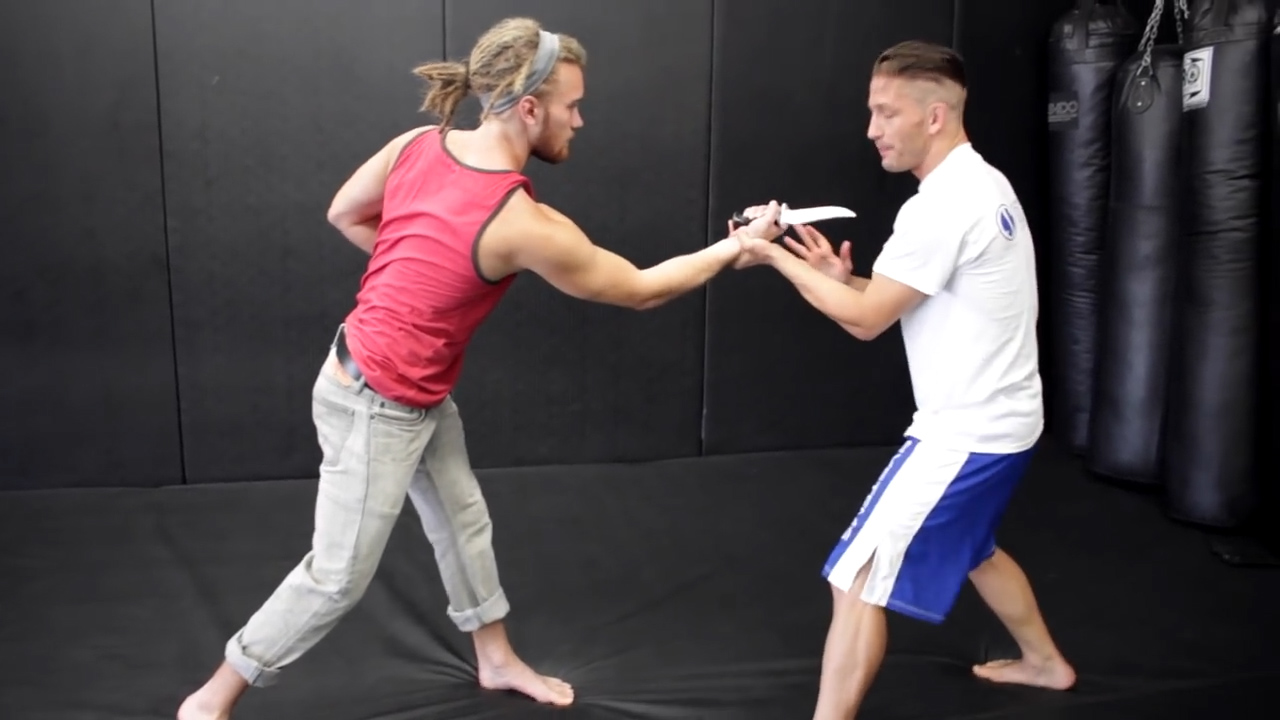knife: (717, 185, 866, 243)
